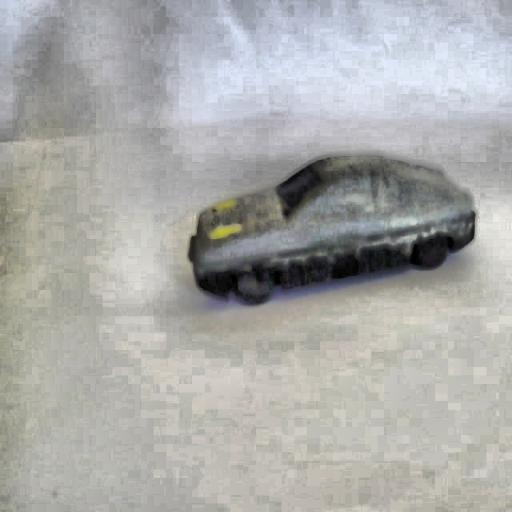normal_car: (185, 150, 477, 306)
